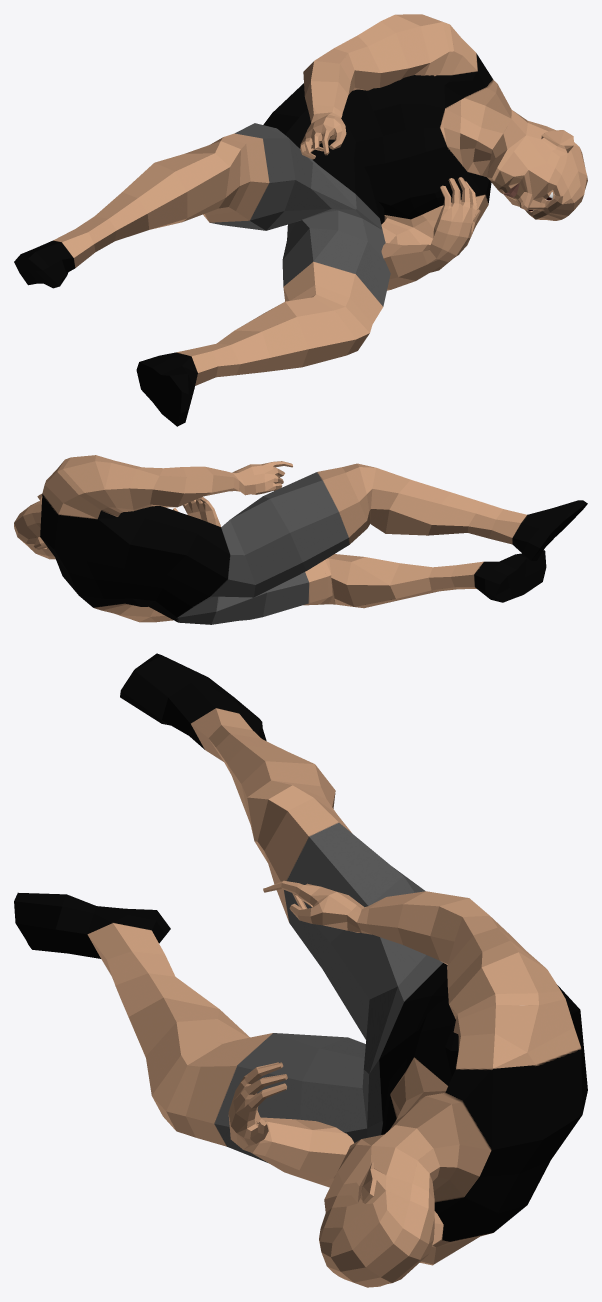
Rendered from PlayerDead(56).obj.
3 renders of one model, top to bottom at view 1: azimuth 30°, elevation 25°; view 2: azimuth 150°, elevation 25°; view 3: azimuth 270°, elevation 25°, orthographic. The views are drawn at different scales.
Parts seen in each view (by area): view 1: Plane002; view 2: Plane002; view 3: Plane002.
Boxes of the visible parts, left/top/right/bottom form: Plane002: left=14, top=14, right=587, bottom=426; Plane002: left=14, top=455, right=587, bottom=624; Plane002: left=14, top=653, right=587, bottom=1287.
Bounding box in the file's own units: 1656 × 563 × 926.
